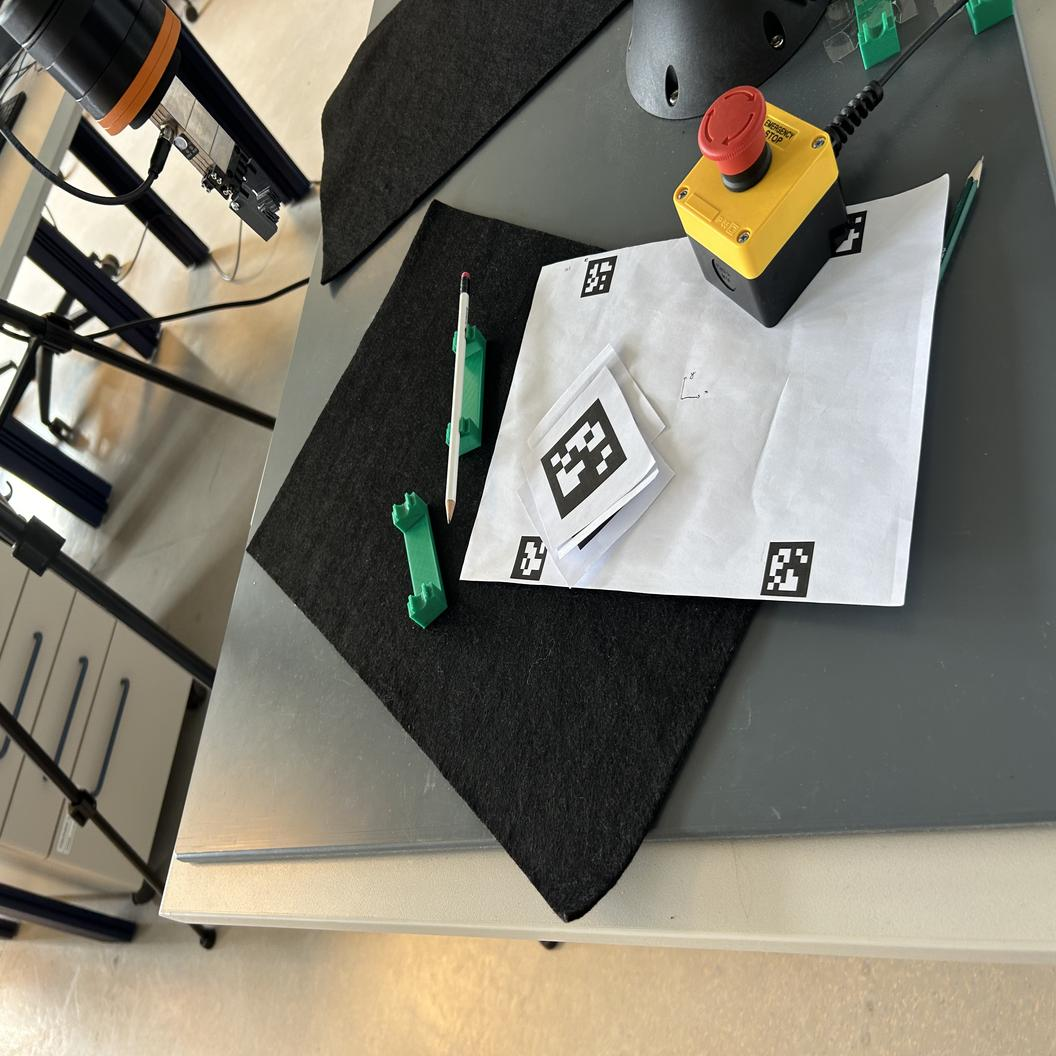X: (444, 269, 488, 526)
holder: (391, 491, 449, 629), (446, 325, 488, 456), (854, 1, 903, 71), (966, 1, 1016, 34)
pencil: (444, 269, 471, 526), (940, 154, 984, 284)
